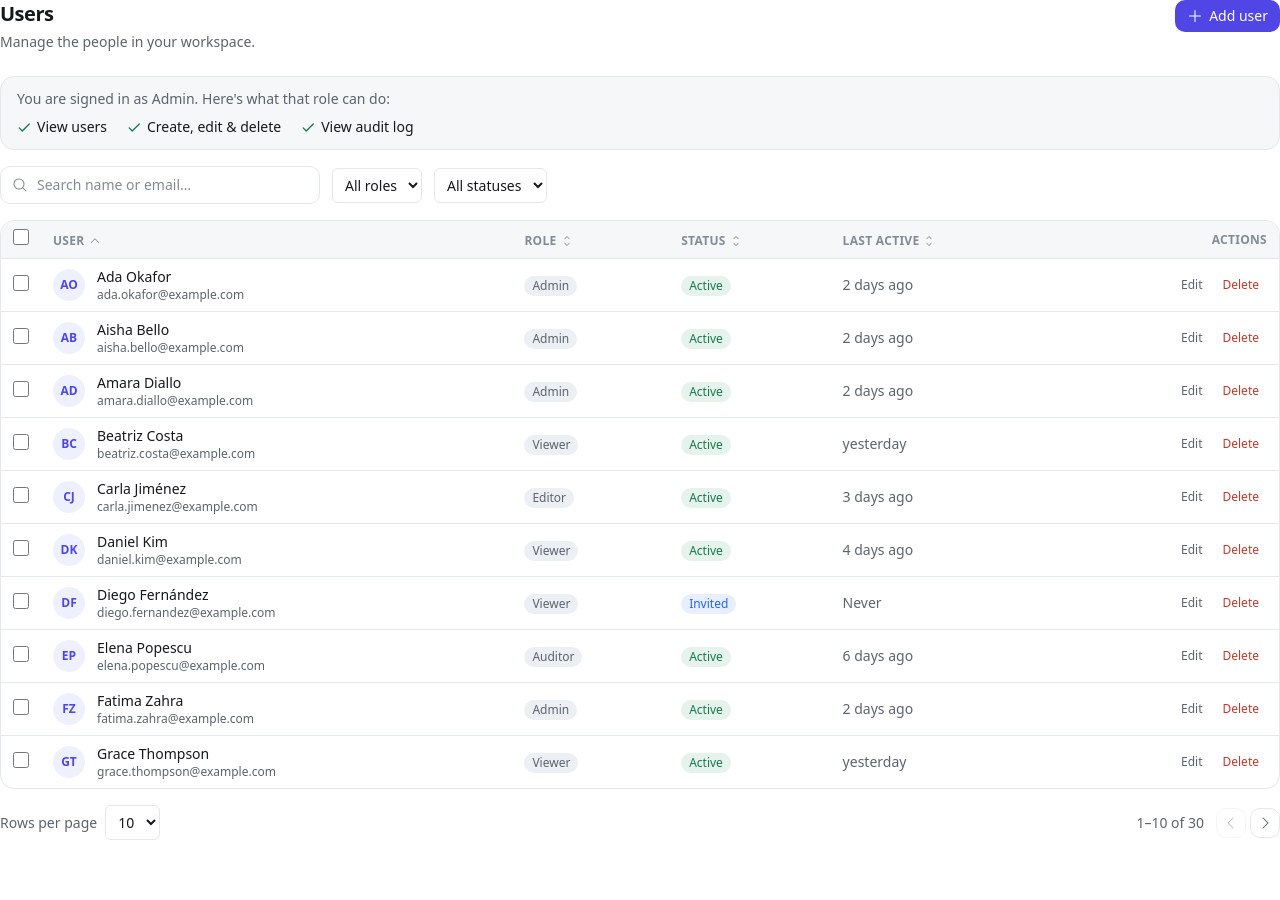
Test case: UsersPage › validates the form and disables submit until valid
This screenshot has width=1280, height=900.
Expected: the text "Ada Okafor" is shown, [97, 267, 171, 286]
Click the button "Add user" at (1228, 16), box [1175, 0, 1279, 32]
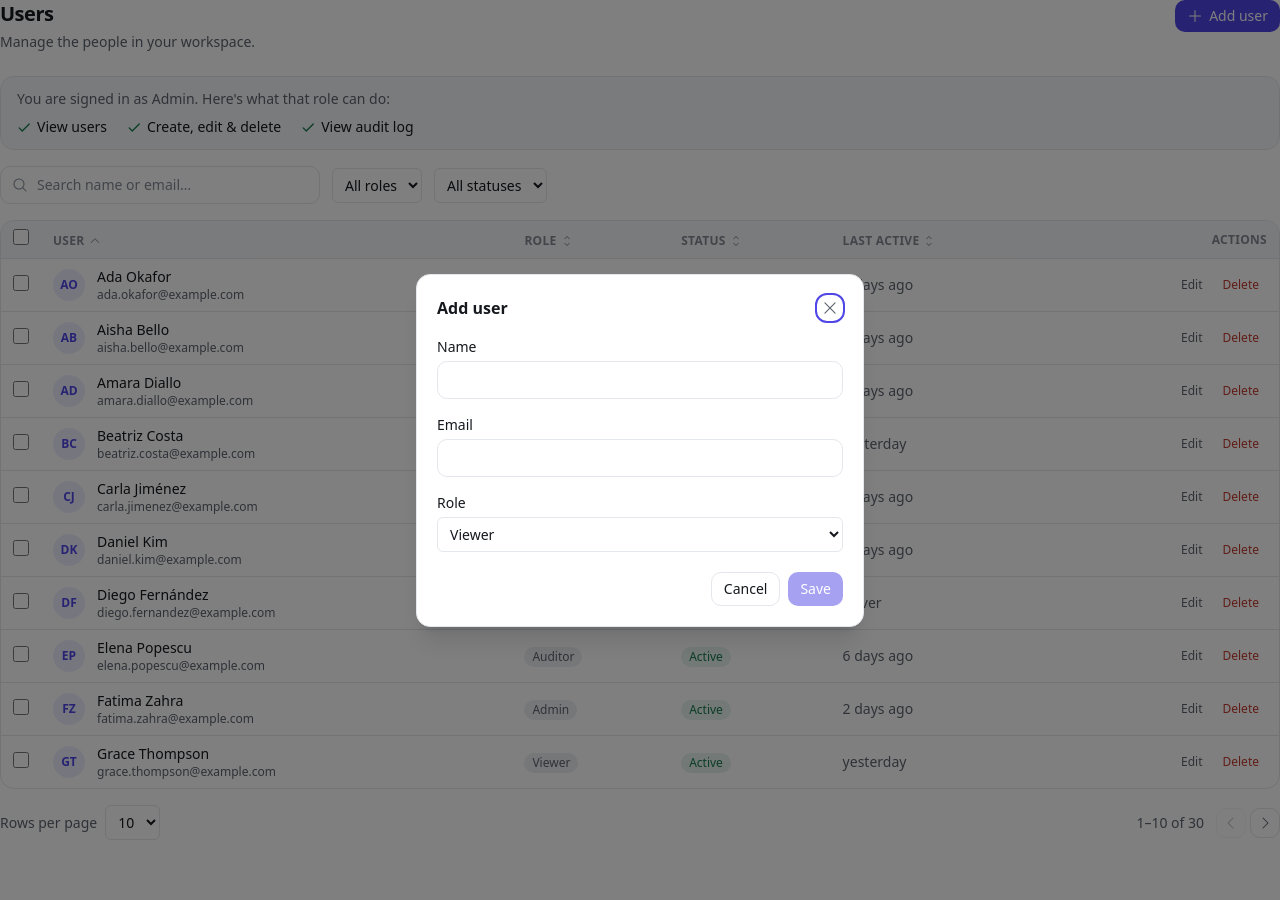
Result: the button "Save" is disabled at [788, 572, 843, 606]
Type "X" into the field labelled "Name" at (640, 380), box [437, 360, 843, 398]
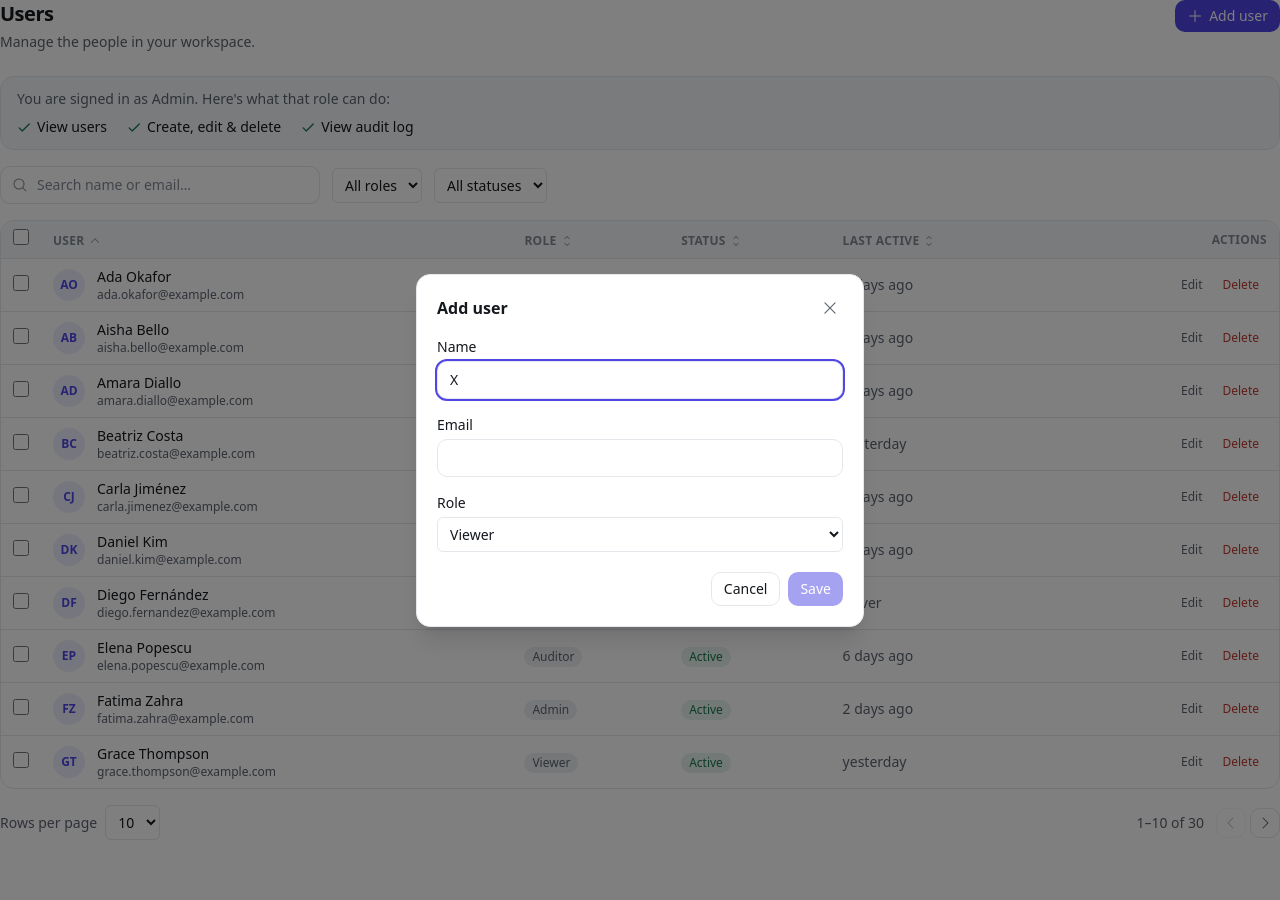
Type "bad" into the field labelled "Email" at (640, 458), box [437, 438, 843, 476]
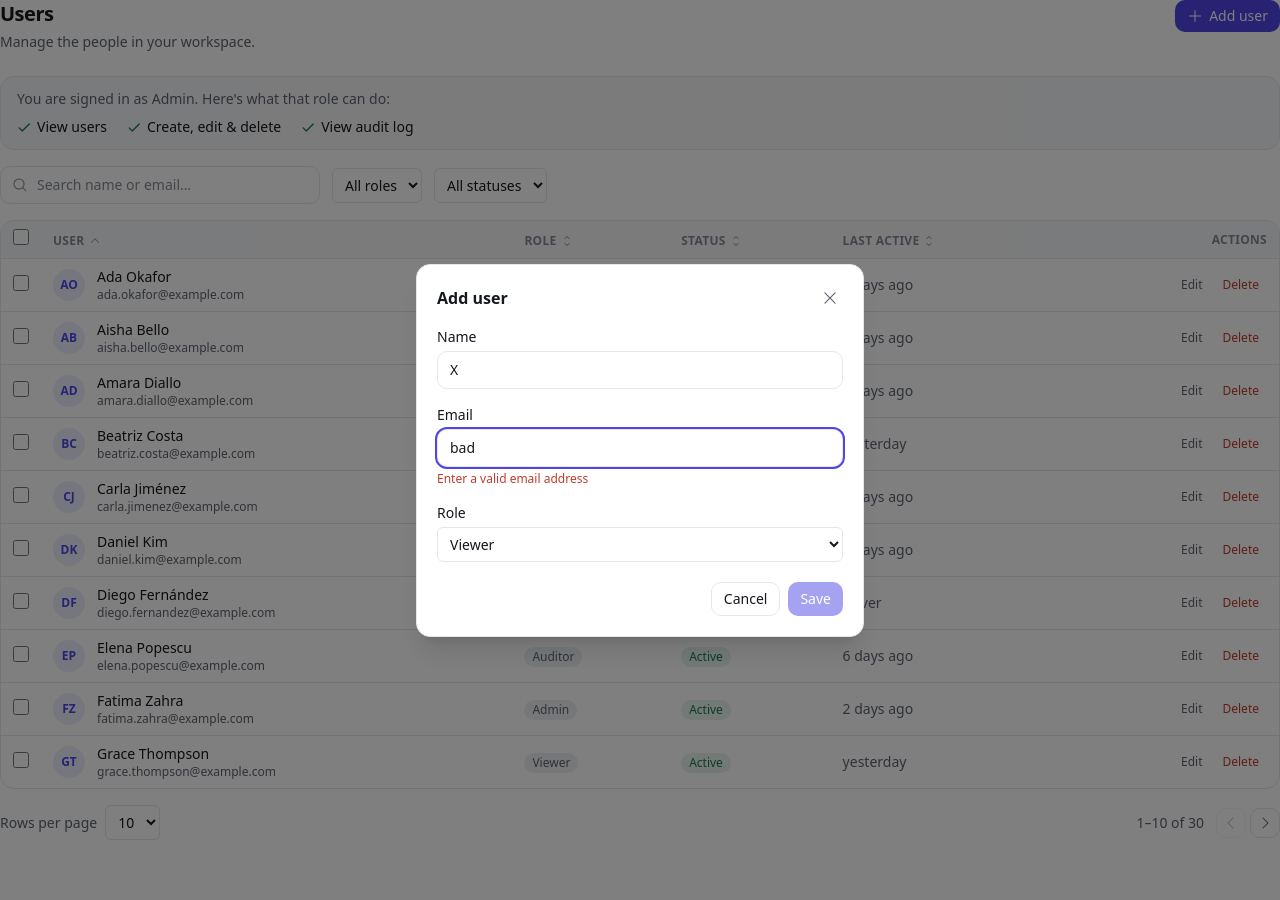
Result: the button "Save" is disabled at [788, 582, 843, 616]
Result: the text "Enter a valid email address" is shown at [437, 470, 588, 486]
Replace the text in the field labelled "Email" with "good@example.com" at (640, 448), box [437, 428, 843, 466]
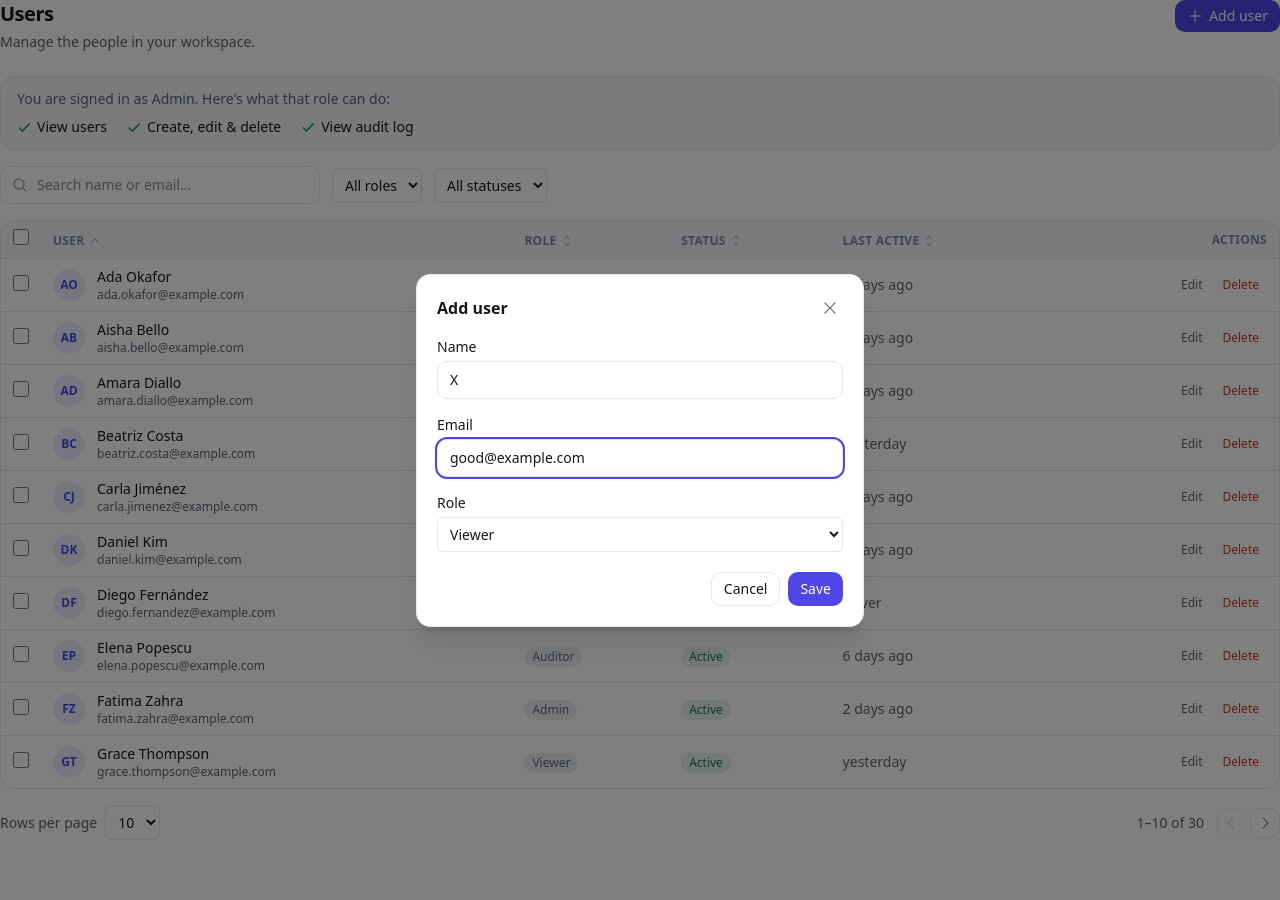
Result: the button "Save" is enabled at [788, 572, 843, 606]
